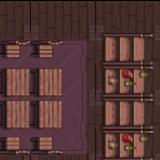Obstacle: (96, 96, 160, 130), (96, 33, 160, 65), (96, 66, 160, 96), (96, 130, 159, 160), (31, 63, 64, 97), (30, 128, 63, 160), (0, 63, 31, 97), (31, 97, 64, 128), (0, 128, 31, 160), (31, 32, 64, 62), (0, 97, 31, 128), (0, 33, 30, 63)
